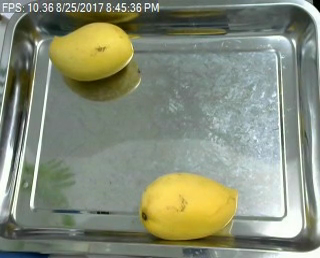Mango: (134, 166, 236, 244), (49, 17, 138, 82)
